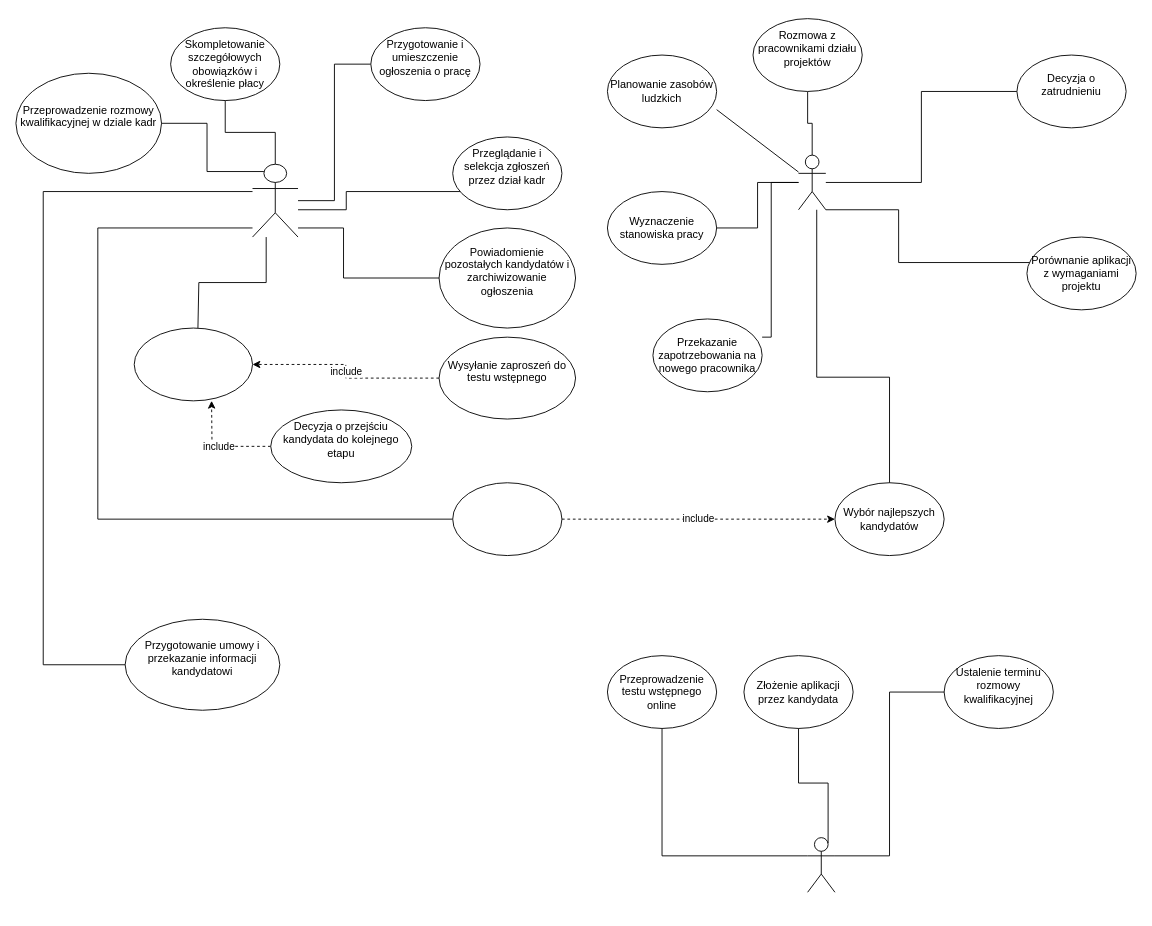
Some shapes in this 1152 by 926 pixel diagram are drawn without their labels. Here are the shapes that lost their labels. From the top down, the centre of each, then its label:
At (x=275, y=200): "Dział kadr".
At (x=812, y=182): "Dział Projektów".
At (x=193, y=364): "Ogłoszenie wyników testu".
At (x=507, y=519): "Przekazanie wybranych aplikacji do działu projektów".
At (x=821, y=864): "Kandydat".
